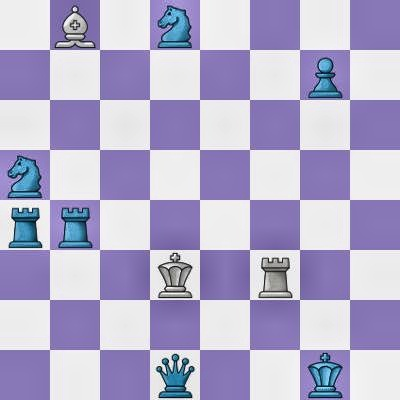black-king: (300, 350, 350, 400)
black-knight: (150, 0, 200, 50), (0, 150, 50, 200)
black-pawn: (300, 50, 350, 100)
black-queen: (150, 350, 200, 400)
black-rook: (0, 200, 50, 250), (50, 200, 100, 250)
white-bishop: (50, 0, 100, 50)
white-king: (150, 250, 200, 300)
white-rook: (250, 250, 300, 300)
